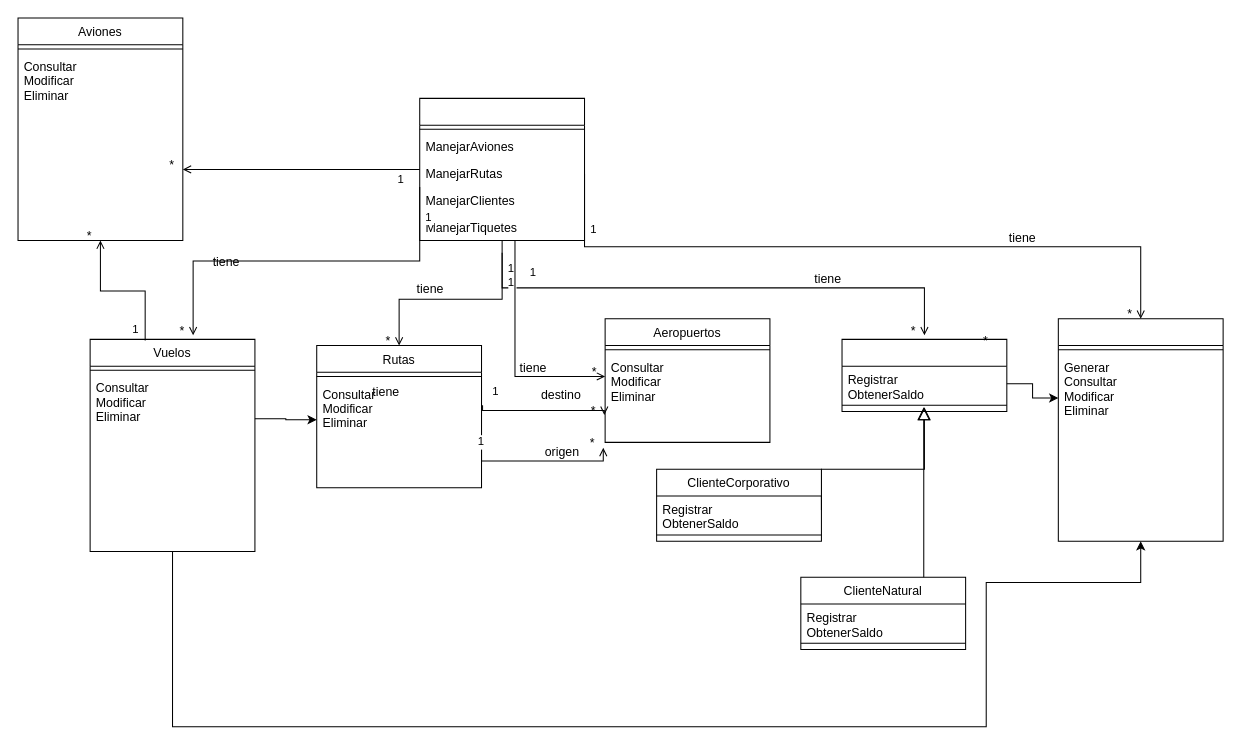
This 1241x753 diagram has some shape labels left out. Each missing label, with the box of its shape:
Aerolinea: (419, 97, 585, 241)
Cliente: (841, 338, 1007, 411)
Tarifas: (1057, 318, 1223, 541)
